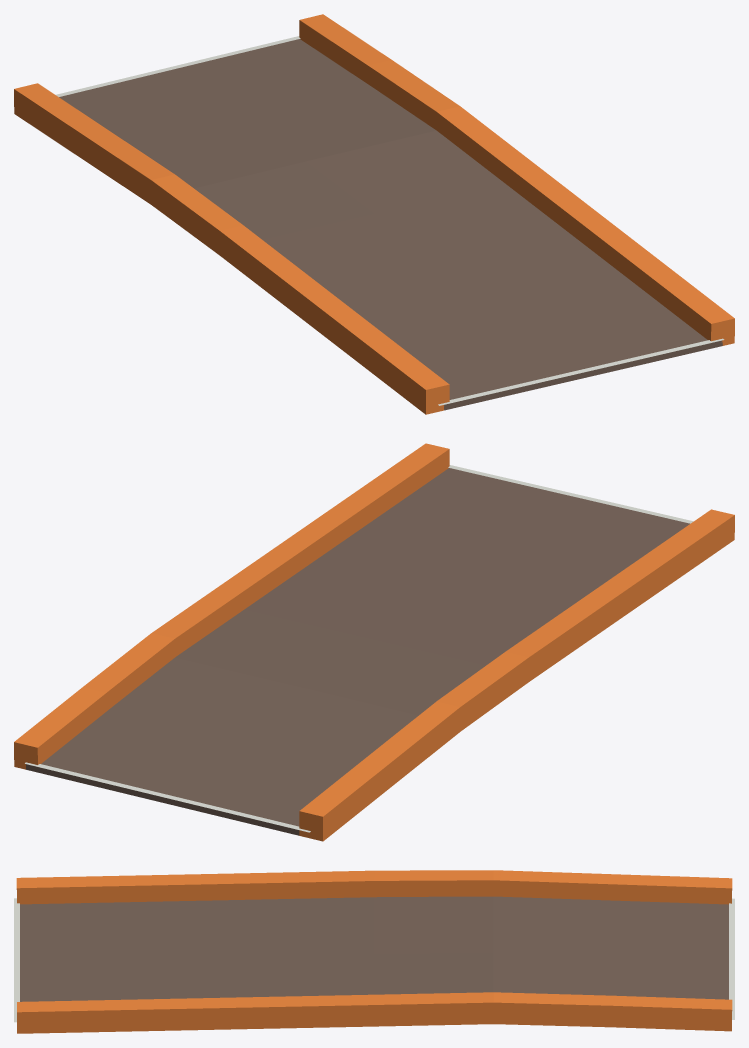
The model's file is SM_MP_Film_B_3_1.fbx.
3 renders of one model, top to bottom at view 1: azimuth 30°, elevation 25°; view 2: azimuth 150°, elevation 25°; view 3: azimuth 270°, elevation 25°, orthographic. The views are drawn at different scales.
Visible parts, largest first — view 1: SM_MP_Film_B_3_1; view 2: SM_MP_Film_B_3_1; view 3: SM_MP_Film_B_3_1.
Boxes of the visible parts, x1=… form: SM_MP_Film_B_3_1: x1=14, y1=14, x2=734, y2=414; SM_MP_Film_B_3_1: x1=14, y1=443, x2=734, y2=841; SM_MP_Film_B_3_1: x1=14, y1=870, x2=734, y2=1033.
Size of what is drawn, in the model's own units: 260 by 605 by 30.27.
